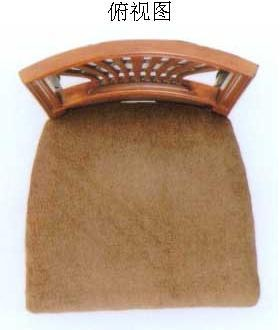obstacle: (20, 40, 258, 311)
